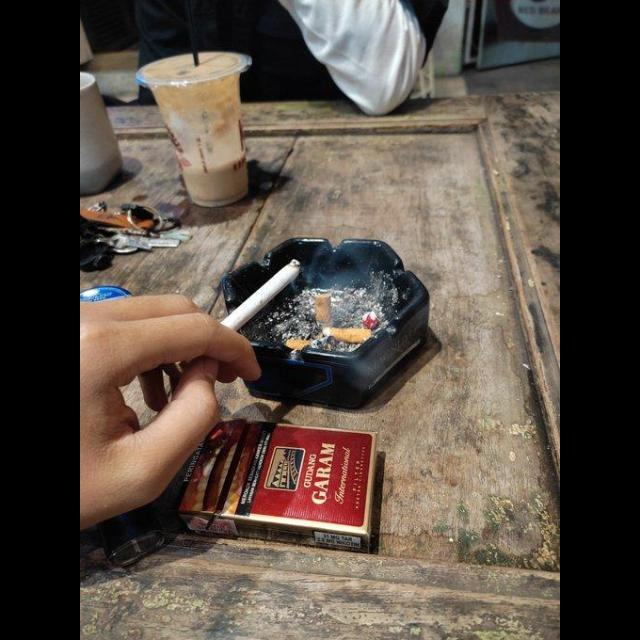rokok: (218, 258, 302, 332)
